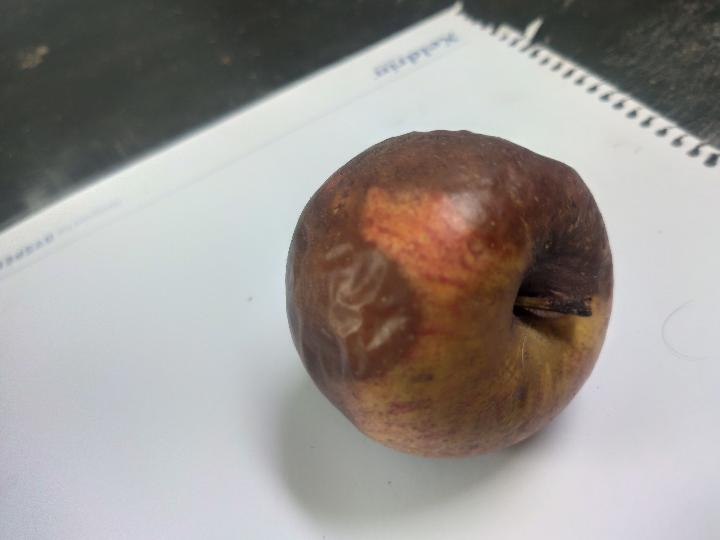apple: (286, 131, 613, 457)
rot_mold_decay: (286, 130, 613, 422)
